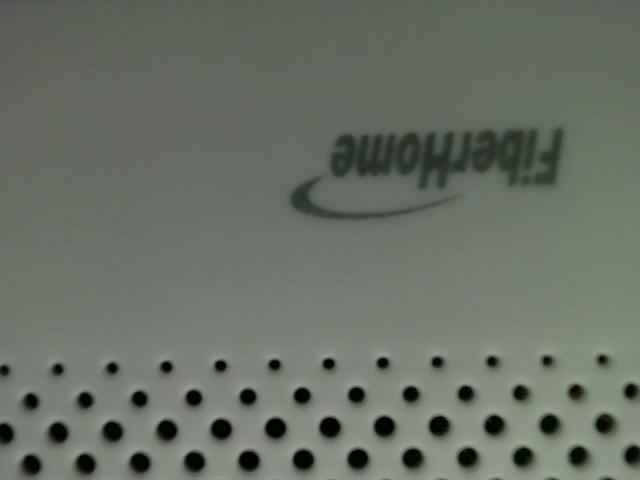AI_FiberHome: (280, 119, 571, 225)
